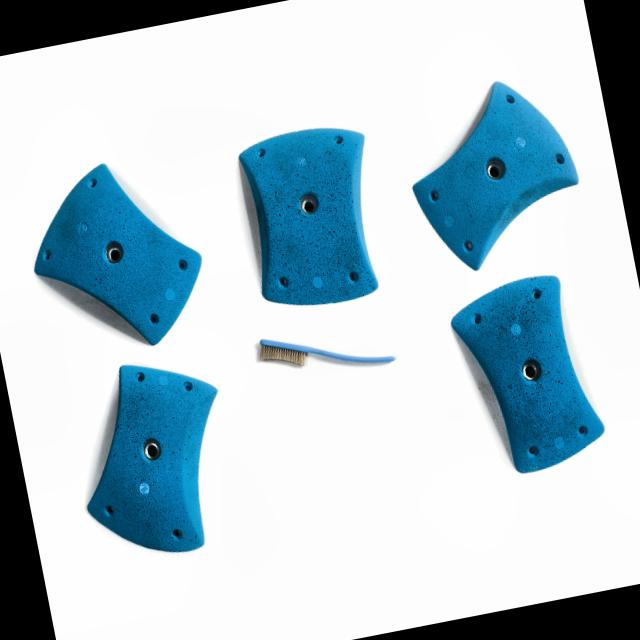Hold: (13, 132, 215, 369), (394, 59, 592, 278), (62, 350, 249, 567), (444, 264, 612, 485), (233, 120, 393, 320)
